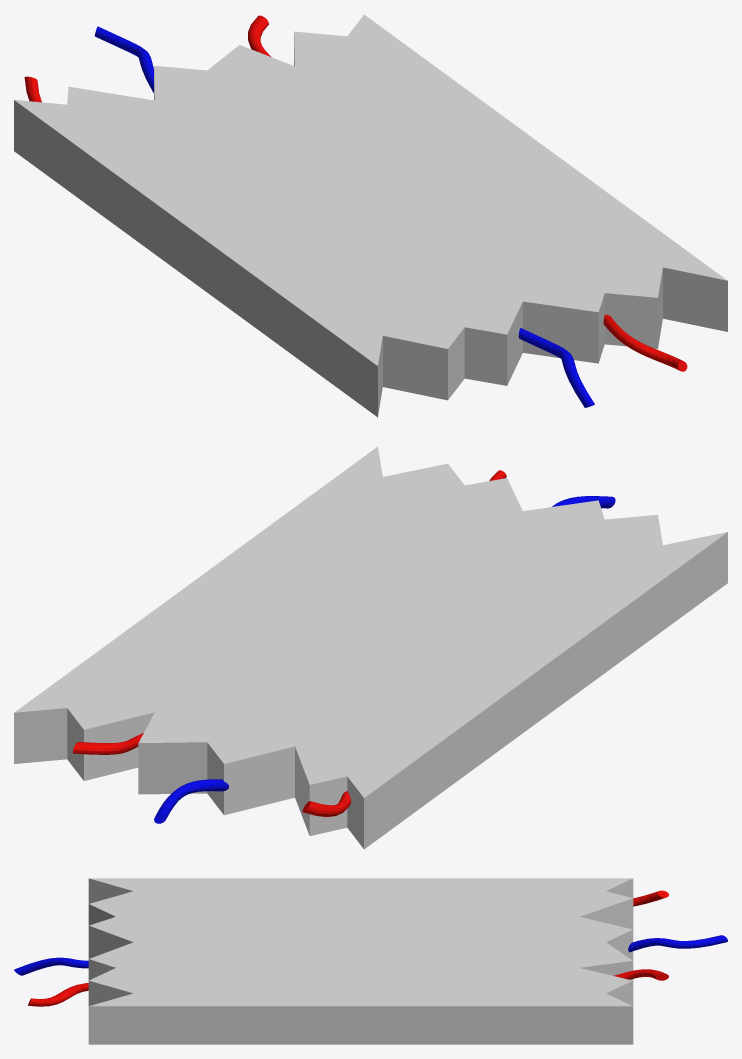
The model's file is PlataformStatic.glb.
The picture shows the model from 3 angles, top to bottom: view 1: azimuth 30°, elevation 25°; view 2: azimuth 150°, elevation 25°; view 3: azimuth 270°, elevation 25°; orthographic projection. The views are drawn at different scales.
Visible parts, largest first — view 1: PlataformStatic, CaboAzul.005, CaboAzul.006, CaboAzul.007; view 2: PlataformStatic, CaboAzul.007, CaboAzul.008, CaboAzul.009; view 3: PlataformStatic, CaboAzul.007, CaboAzul.005, CaboAzul.006, CaboAzul.008, CaboAzul.009.
Part boxes in pixels (box(x1,y1,x2,y2)): PlataformStatic: box(14, 14, 727, 417); CaboAzul.005: box(518, 328, 594, 407); CaboAzul.006: box(603, 314, 687, 371); CaboAzul.007: box(94, 26, 153, 92); PlataformStatic: box(14, 446, 727, 849); CaboAzul.007: box(154, 779, 228, 823); CaboAzul.008: box(73, 733, 143, 754); CaboAzul.009: box(302, 791, 351, 816); PlataformStatic: box(88, 878, 633, 1044); CaboAzul.007: box(628, 935, 727, 952); CaboAzul.005: box(14, 957, 88, 975); CaboAzul.006: box(28, 983, 88, 1006); CaboAzul.008: box(614, 969, 668, 980); CaboAzul.009: box(633, 890, 668, 906).
Size of what is drawn, in the model's own units: 7 by 1.05 by 16.53.
